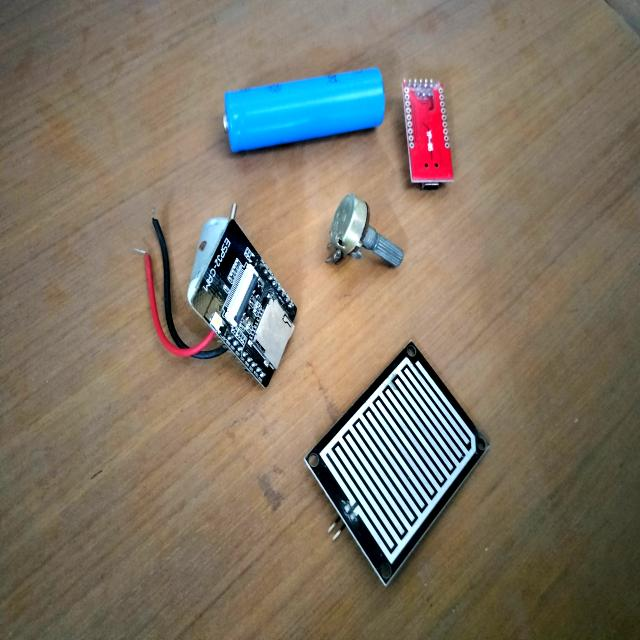3-3-Volt-Battery: (214, 61, 390, 162)
DC-Motor: (184, 196, 249, 332)
ESP32-CAM: (190, 223, 301, 389)
FT-232-USB-Serial-Module: (398, 72, 457, 197)
Raindrops-Module: (302, 336, 491, 593)
Taper-Potentiometer: (323, 190, 408, 283)
